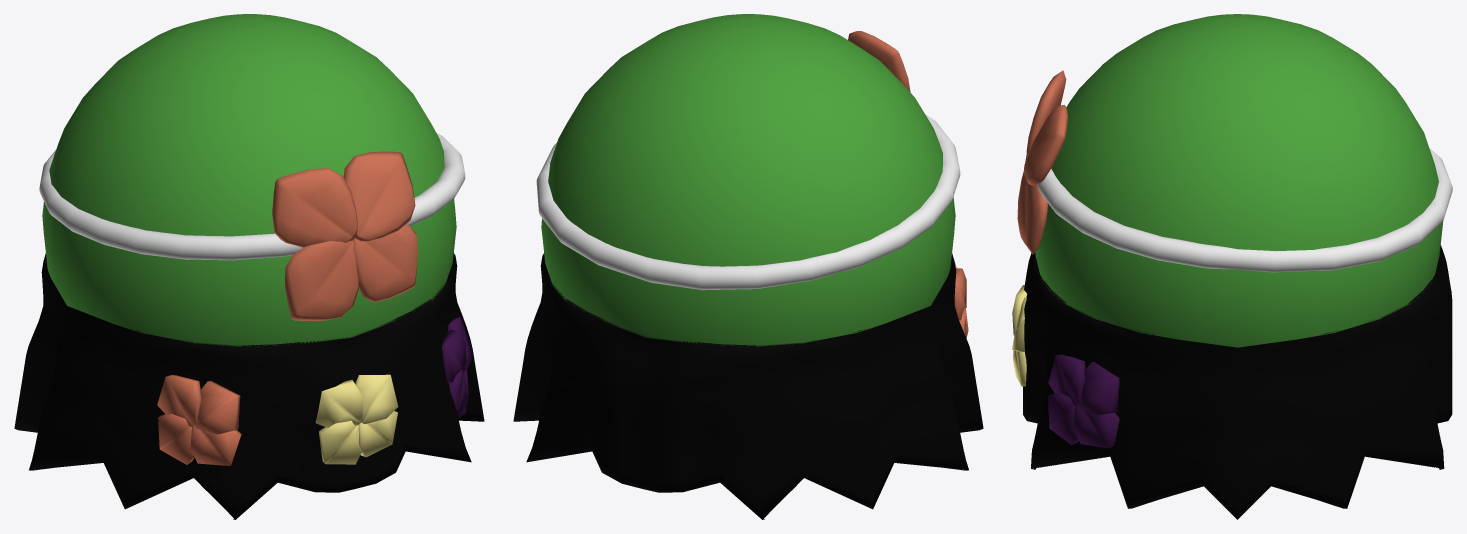
The model's file is bolitas10.fbx.
3 views of the same model, side by side, from view 1: azimuth 30°, elevation 25°; view 2: azimuth 150°, elevation 25°; view 3: azimuth 270°, elevation 25° (orthographic).
Parts seen in each view (by area): view 1: Sphere.002, Cube.006, FLOR, BezierCurve, FLOR.003, FLOR.001, FLOR.002; view 2: Sphere.002, Cube.006, BezierCurve, FLOR, FLOR.003; view 3: Sphere.002, Cube.006, BezierCurve, FLOR.002, FLOR, FLOR.001.
Boxes of the visible parts, x1,y1,x2,y2 form: Sphere.002: (42,14,456,346); Cube.006: (14,253,484,519); FLOR: (272,151,417,320); BezierCurve: (39,133,465,260); FLOR.003: (157,375,241,465); FLOR.001: (315,374,398,464); FLOR.002: (441,317,472,417); Sphere.002: (541,14,955,346); Cube.006: (513,253,983,519); BezierCurve: (536,114,960,290); FLOR: (848,31,910,92); FLOR.003: (954,262,968,338); Sphere.002: (1035,14,1443,347); Cube.006: (1023,245,1452,519); BezierCurve: (1037,148,1452,272); FLOR.002: (1048,354,1119,448); FLOR: (1017,70,1068,254); FLOR.001: (1012,285,1026,386).
Bounding box in the file's own units: 246 × 209 × 214.
